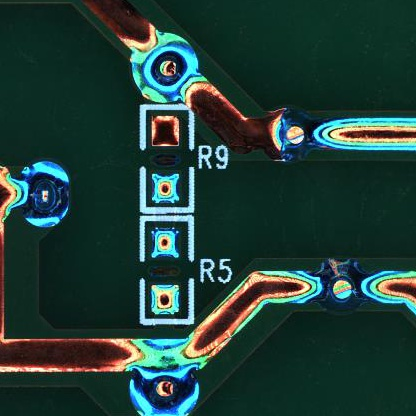spot: (131, 31, 199, 101), (128, 361, 200, 416), (20, 160, 69, 228), (262, 106, 315, 163), (316, 258, 368, 313)
